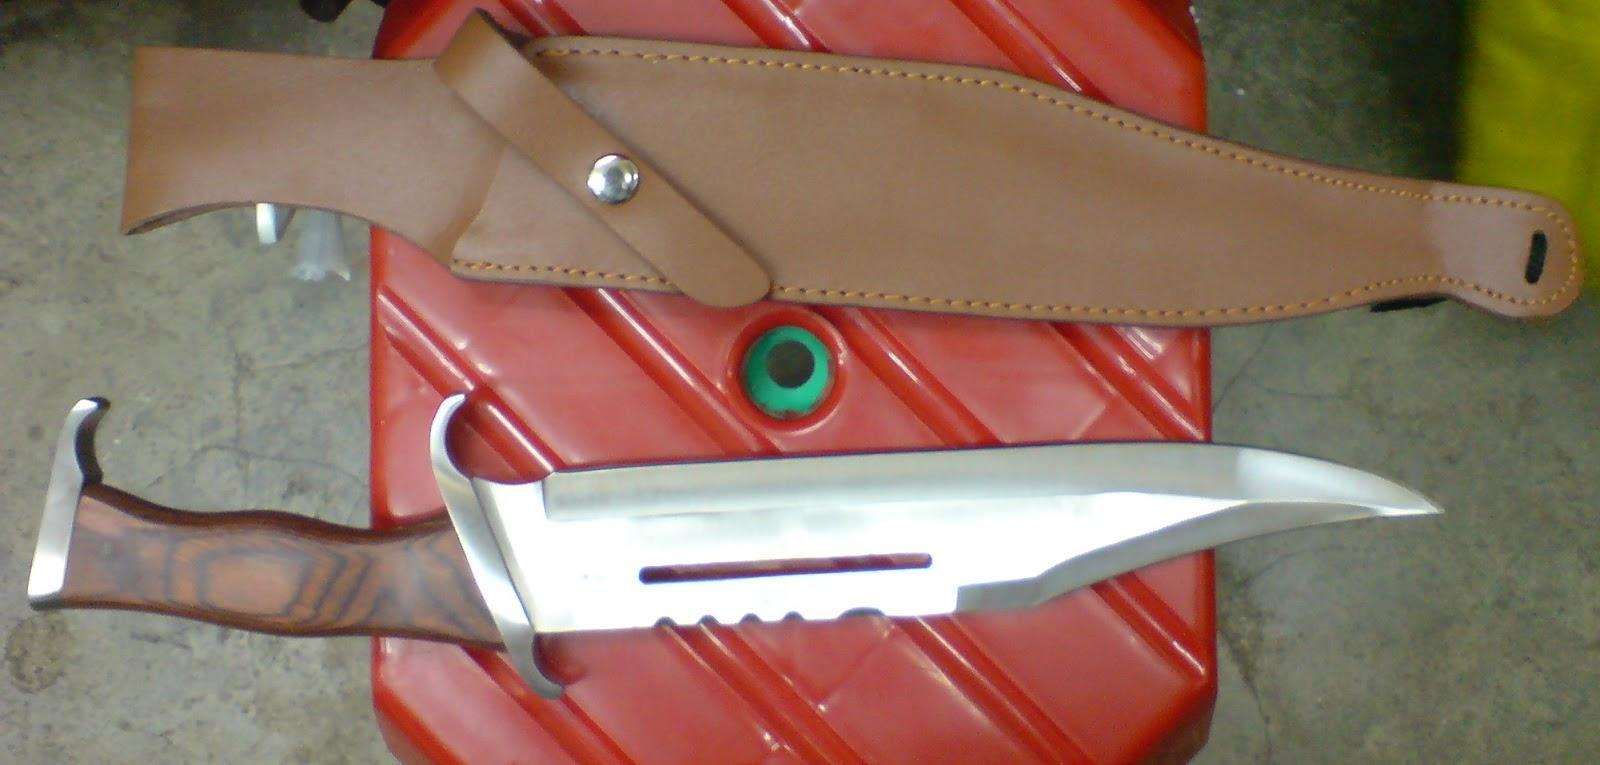faca: (27, 393, 1441, 698)
